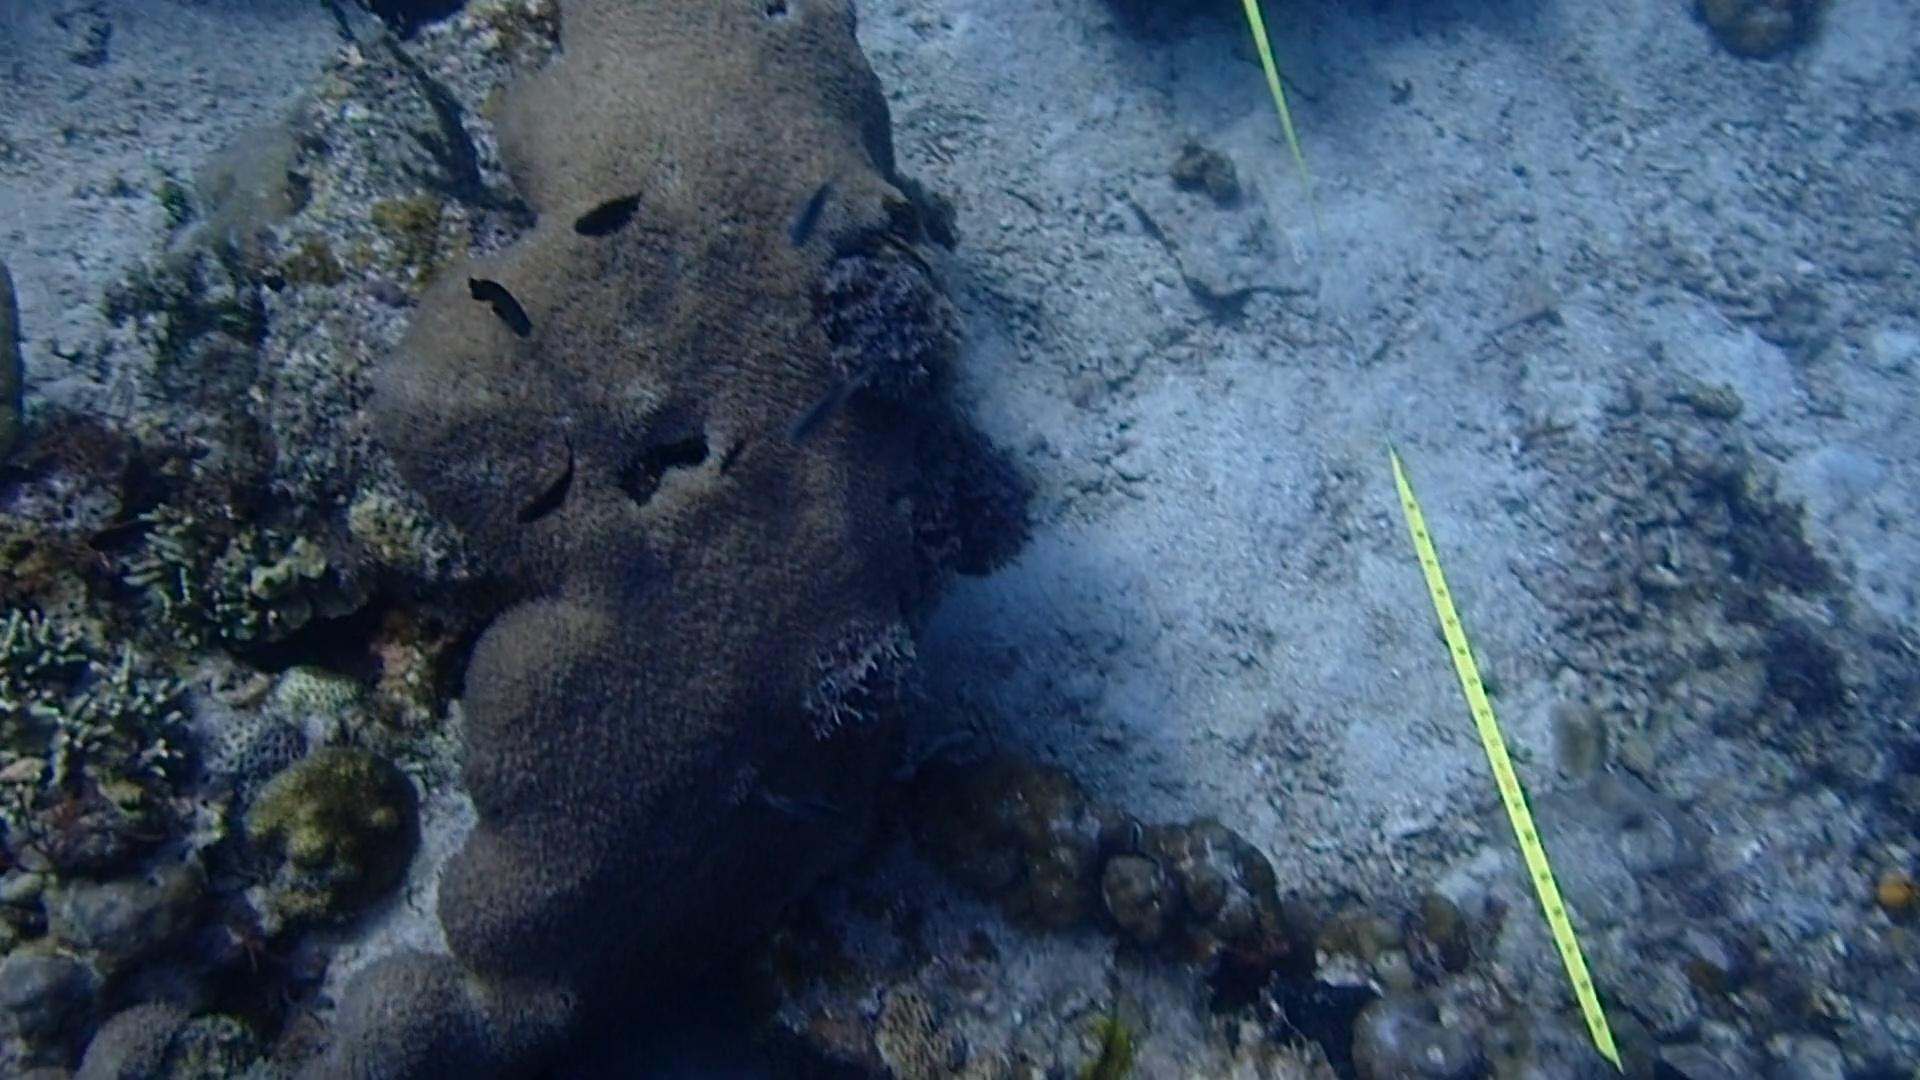Dark Fish: (500, 417, 584, 524), (459, 260, 542, 347), (558, 181, 650, 252), (716, 423, 754, 477)
Light Fish: (771, 353, 880, 460), (757, 781, 861, 848), (769, 165, 843, 258)
